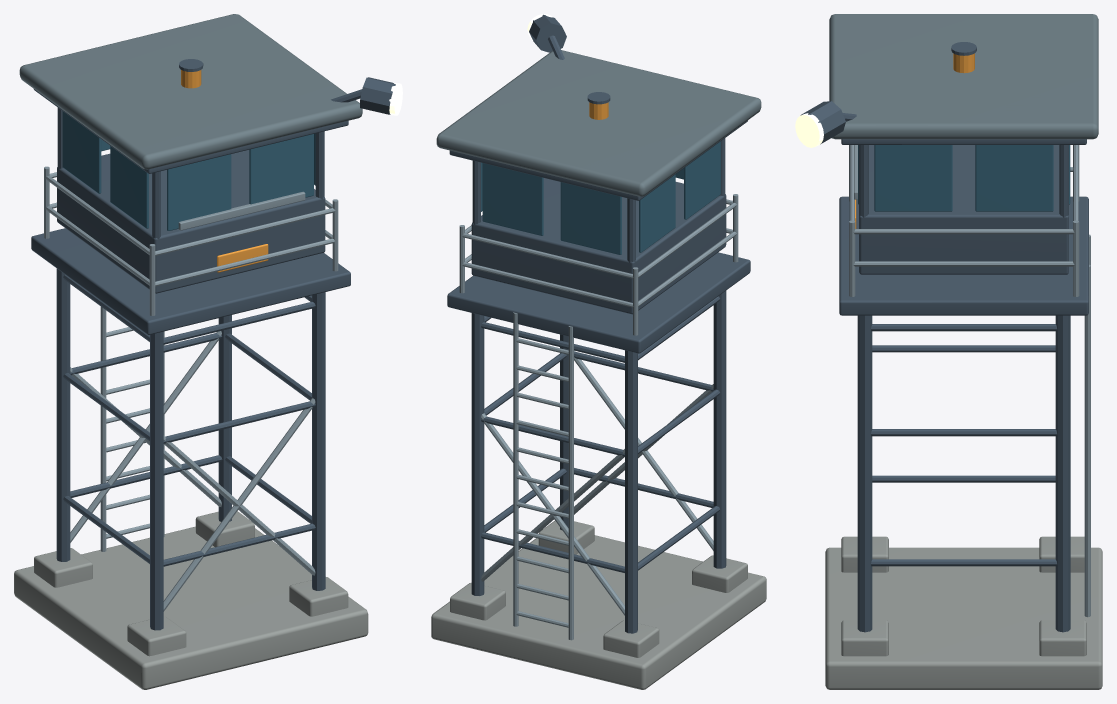
The model's file is watchtower.glb.
3 renders of one model, left to right at view 1: azimuth 30°, elevation 25°; view 2: azimuth 150°, elevation 25°; view 3: azimuth 270°, elevation 25°, orthographic. The views are drawn at different scales.
Visible parts, largest first — view 1: cabin.roof, base.foundations, cabin.lower.shell, upper.platform, structural.pillar.001, structural.pillar, structural.pillar.002, window.north-south, window.north-south.001, structural.pillar.003, window.east-west.001, window.east-west (+28 smaller); view 2: cabin.roof, base.foundations, cabin.lower.shell, upper.platform, structural.pillar.003, structural.pillar, window.north-south.002, window.north-south.003, structural.pillar.001, window.east-west, window.east-west.001, access.ladder.rail (+27 smaller); view 3: cabin.roof, base.foundations, cabin.lower.shell, upper.platform, window.east-west.002, window.east-west.003, structural.pillar.002, structural.pillar.003, access.ladder.rail.001, footing.concrete.002, footing.concrete.003, cross.member.001 (+15 smaller).
Part boxes in pixels (box(x1,y1,x2,y2)): cabin.roof: box(19, 14, 362, 169); base.foundations: box(14, 526, 368, 689); cabin.lower.shell: box(57, 150, 325, 293); upper.platform: box(31, 228, 350, 334); structural.pillar.001: box(56, 268, 70, 561); structural.pillar: box(150, 331, 163, 630); structural.pillar.002: box(312, 292, 325, 590); window.north-south: box(167, 154, 231, 230); window.north-south.001: box(249, 134, 313, 204); structural.pillar.003: box(218, 315, 231, 521); window.east-west.001: box(62, 111, 101, 193); window.east-west: box(110, 146, 148, 228); cabin.roof: box(436, 50, 761, 196); base.foundations: box(431, 535, 766, 689); cabin.lower.shell: box(471, 178, 726, 314); upper.platform: box(447, 252, 750, 353); structural.pillar.003: box(471, 313, 484, 595); structural.pillar: box(713, 291, 726, 568); window.north-south.002: box(560, 182, 621, 254); window.north-south.003: box(482, 163, 543, 235); structural.pillar.001: box(625, 350, 637, 633); window.east-west: box(684, 141, 720, 219); window.east-west.001: box(639, 174, 675, 252); access.ladder.rail: box(568, 326, 573, 640); cabin.roof: box(829, 14, 1098, 139); base.foundations: box(825, 547, 1102, 689); cabin.lower.shell: box(859, 145, 1068, 274); upper.platform: box(839, 196, 1088, 315); window.east-west.002: box(874, 145, 952, 211); window.east-west.003: box(975, 145, 1053, 211); structural.pillar.002: box(857, 315, 872, 632); structural.pillar.003: box(1055, 315, 1070, 632); access.ladder.rail.001: box(1084, 264, 1090, 617); footing.concrete.002: box(841, 620, 888, 656); footing.concrete.003: box(1039, 620, 1086, 656); cross.member.001: box(871, 559, 1057, 566).
Size of the model in its own units: 3.17 by 6.58 by 3.1.
